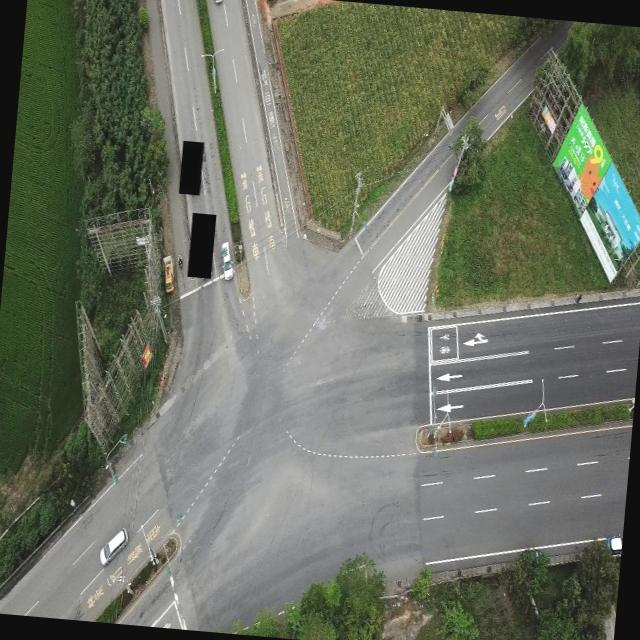bike: (174, 249, 185, 270)
car: (98, 526, 127, 567), (218, 239, 236, 280), (605, 532, 622, 554), (211, 0, 222, 3)
